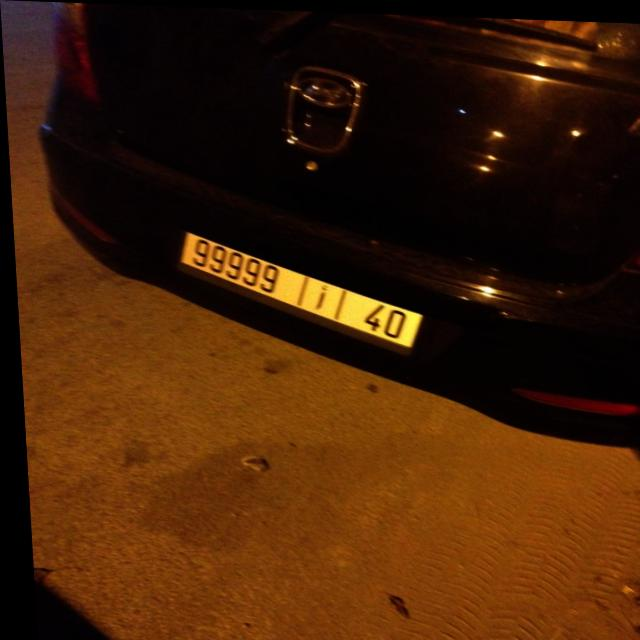License-Plate: (175, 231, 419, 351)
